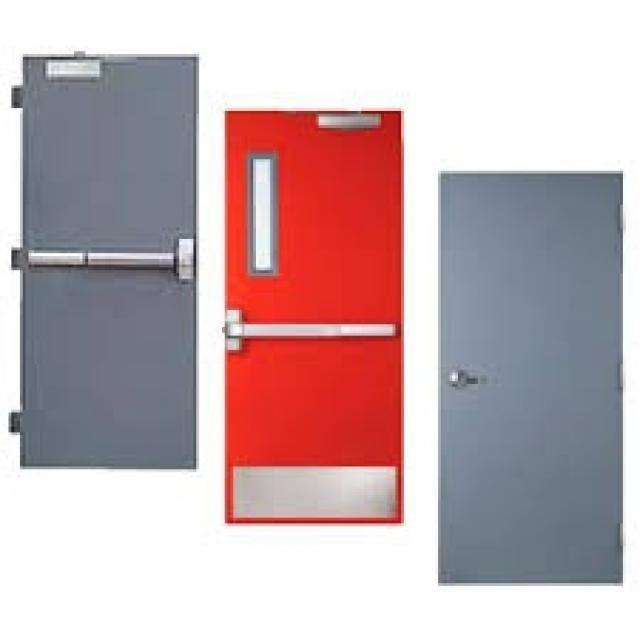door: (222, 108, 404, 526)
